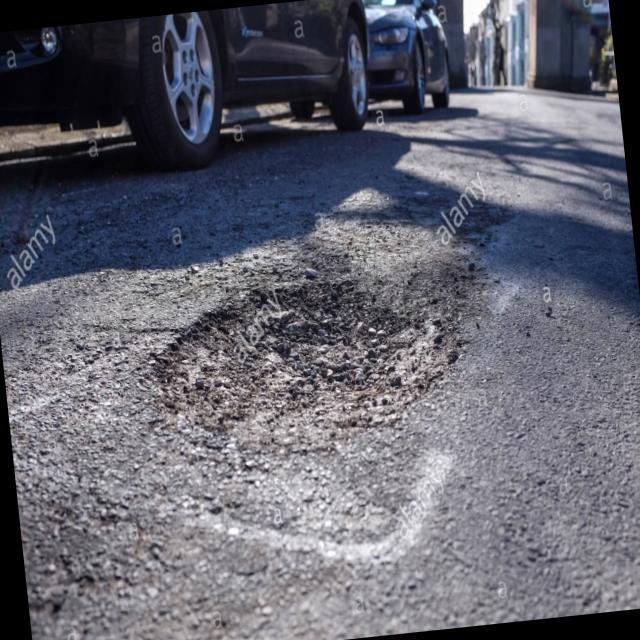Pothole: (156, 252, 466, 455)
